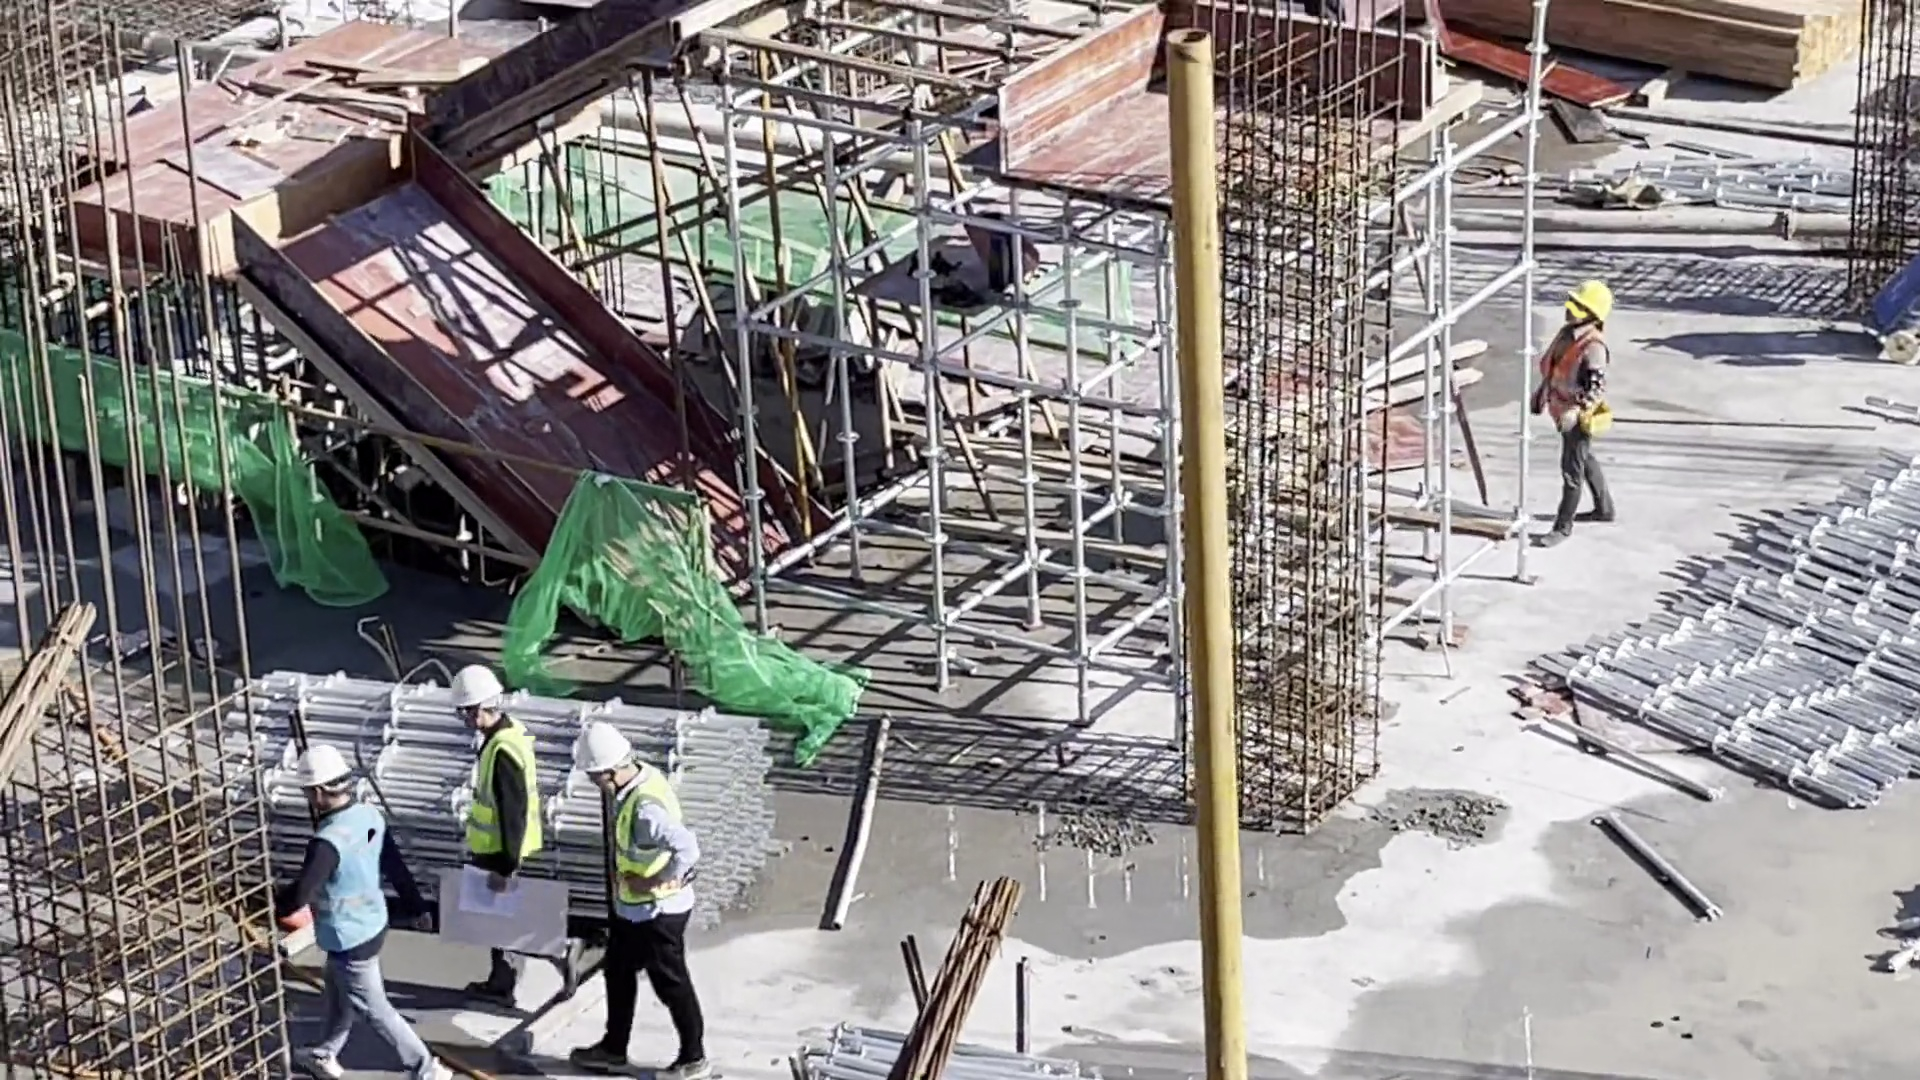helmet: (571, 721, 632, 770), (295, 745, 350, 786), (451, 665, 503, 706), (1568, 280, 1614, 318)
person: (271, 743, 451, 1080), (567, 717, 715, 1080), (449, 663, 582, 1010), (1530, 278, 1619, 550)
vest: (311, 804, 388, 955), (466, 718, 543, 857), (614, 772, 688, 907), (1543, 324, 1609, 420)
